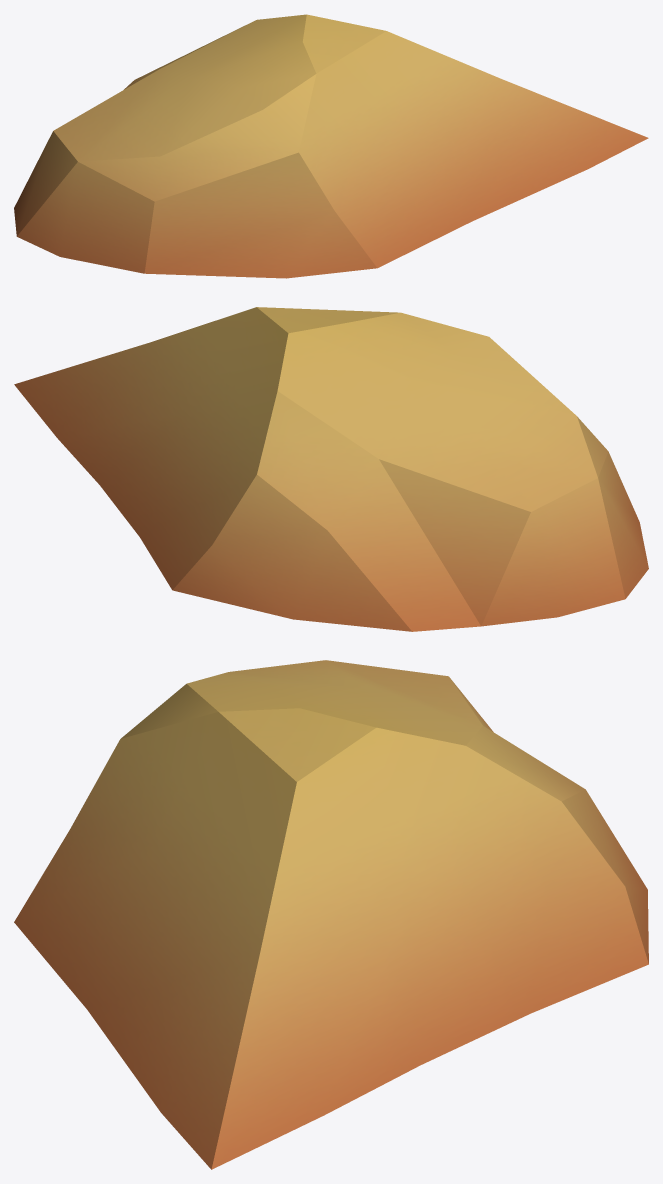
Rendered from Canyon_Stone_012.FBX.
3 renders of one model, top to bottom at view 1: azimuth 30°, elevation 25°; view 2: azimuth 150°, elevation 25°; view 3: azimuth 270°, elevation 25°, orthographic. The views are drawn at different scales.
Visible parts, largest first — view 1: Canyon_Stone_012; view 2: Canyon_Stone_012; view 3: Canyon_Stone_012.
Boxes of the visible parts, x1,y1,x2,y2 form: Canyon_Stone_012: [14, 14, 648, 278]; Canyon_Stone_012: [14, 307, 648, 631]; Canyon_Stone_012: [14, 660, 648, 1169].
Size of the model in its own units: 172 by 43.89 by 109.
Materials: 1 (1 with a texture image).
